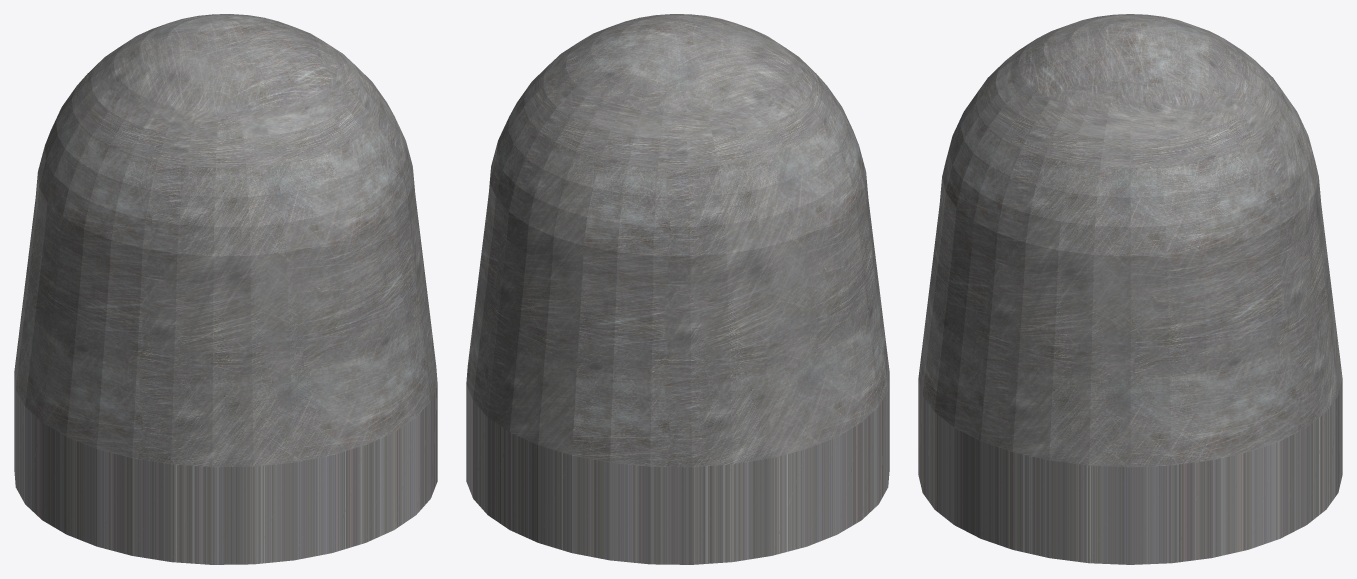
Rendered from Bullet_Bullet.fbx.
3 renders of one model, left to right at view 1: azimuth 30°, elevation 25°; view 2: azimuth 150°, elevation 25°; view 3: azimuth 270°, elevation 25°, orthographic.
Visible parts, largest first — view 1: Cylinder.001; view 2: Cylinder.001; view 3: Cylinder.001.
Part boxes in pixels (x1,y1,x2,y2): Cylinder.001: [14, 14, 437, 564]; Cylinder.001: [466, 14, 889, 564]; Cylinder.001: [918, 14, 1342, 564].
Bounding box in the file's own units: 195 × 226 × 195.
1 material, 1 textured.
